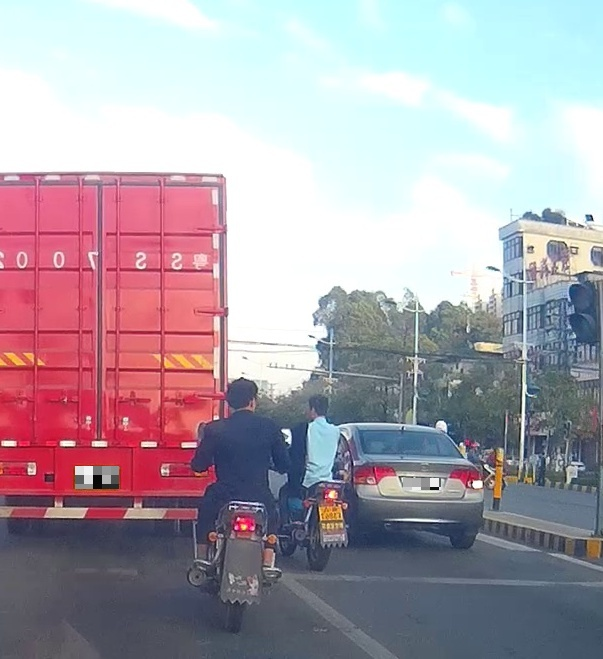L_light: (352, 465, 397, 485)
R_light: (448, 468, 484, 489)
T_light: (390, 430, 415, 437)
day-right: (346, 423, 485, 549)
plate_1: (75, 466, 119, 489)
plate_2: (403, 478, 441, 490)
